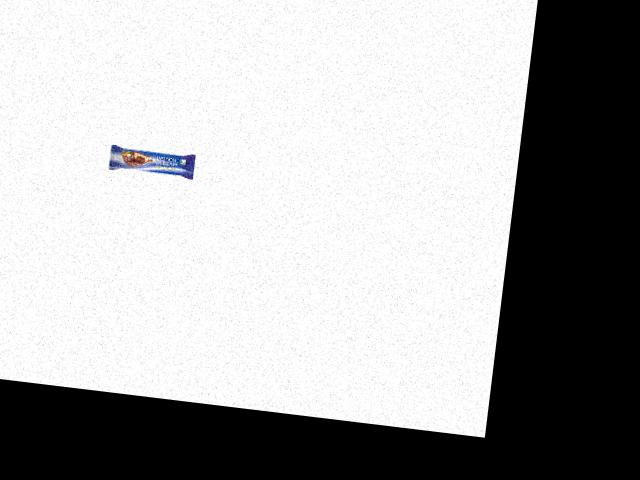chocolate: (97, 134, 198, 181)
